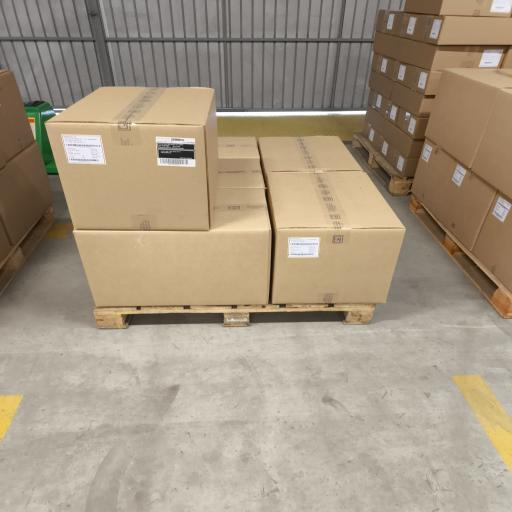pallet: (410, 196, 511, 318), (94, 304, 375, 328), (0, 207, 55, 294), (352, 133, 413, 196)
